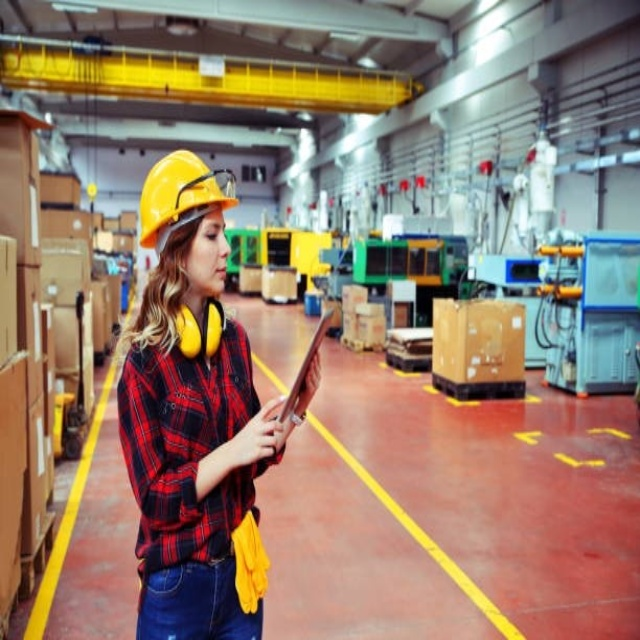Sin_gafas: (201, 216, 227, 243)
Sin_guantes: (256, 406, 299, 463), (298, 344, 323, 406)
Sin_mascara: (206, 256, 232, 289)
